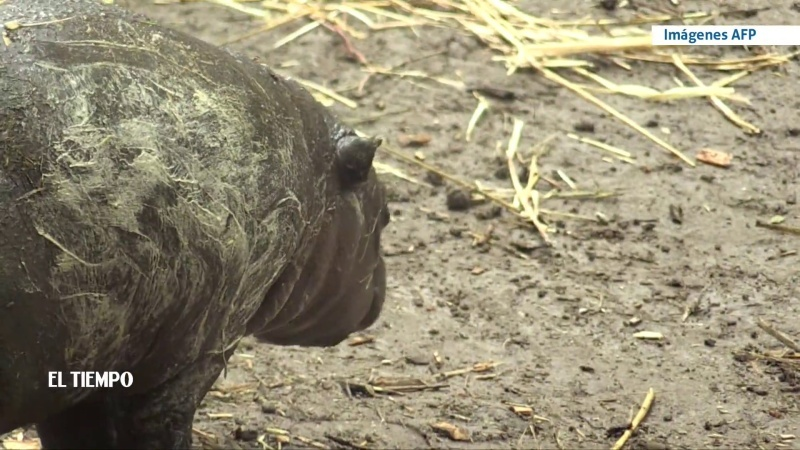hipopotamo: (1, 1, 407, 447)
